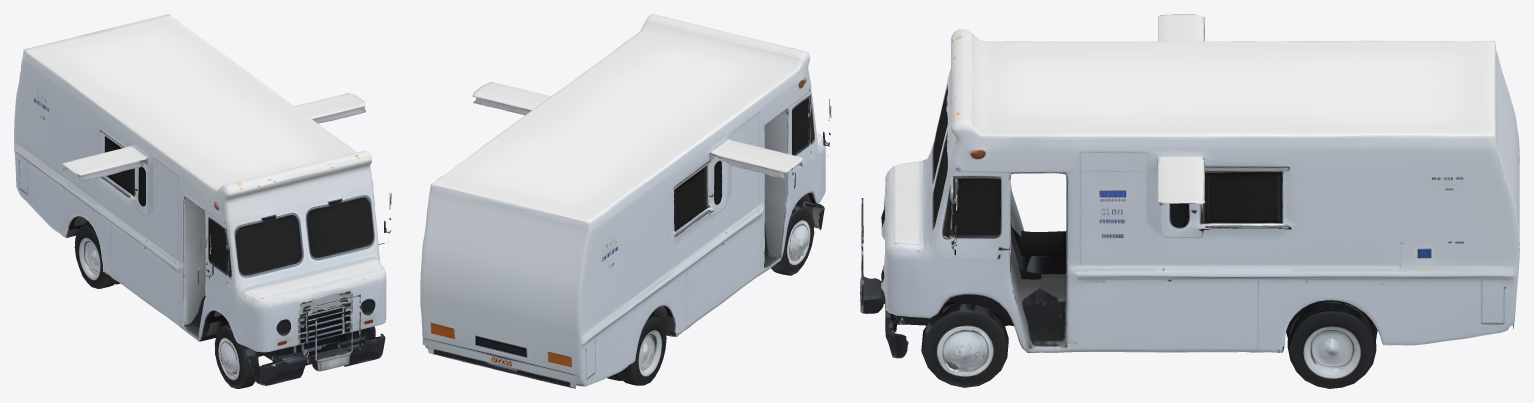
File: foodtruck2024.glb
3 renders of one model, left to right at view 1: azimuth 30°, elevation 25°; view 2: azimuth 150°, elevation 25°; view 3: azimuth 270°, elevation 25°, orthographic. The views are drawn at different scales.
Parts seen in each view (by area): view 1: model; view 2: model; view 3: model.
Boxes of the visible parts, box(x1,y1,x2,y2) form: model: box(14, 14, 391, 388); model: box(420, 14, 831, 388); model: box(860, 14, 1519, 388).
Bounding box in the file's own units: 1.29 × 0.8626 × 1.9.
Materials: 1 (1 with a texture image).
